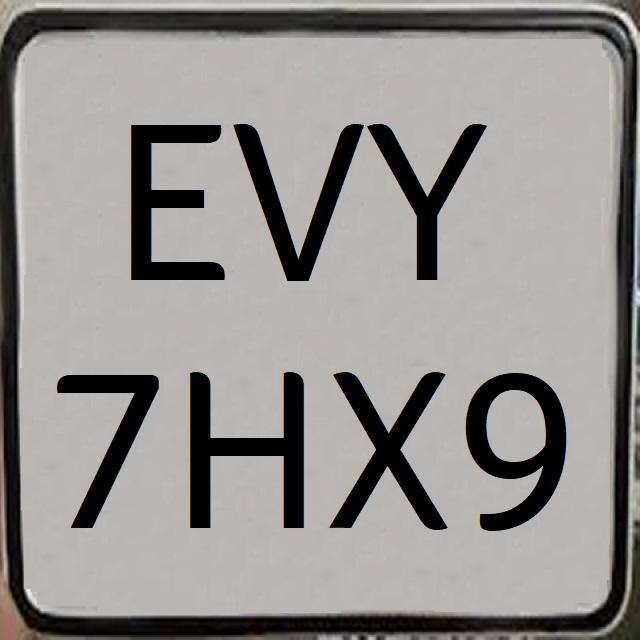9: (462, 358, 573, 546)
E: (117, 96, 231, 294)
H: (187, 356, 315, 544)
T: (55, 348, 165, 546)
V: (235, 101, 362, 295)
X: (331, 352, 452, 539)
Y: (371, 91, 491, 292)
